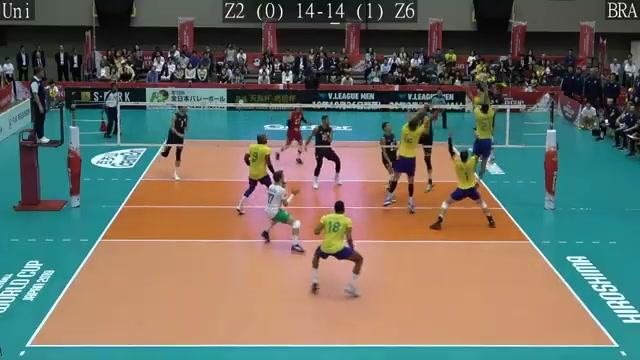ball: (477, 72, 491, 85)
